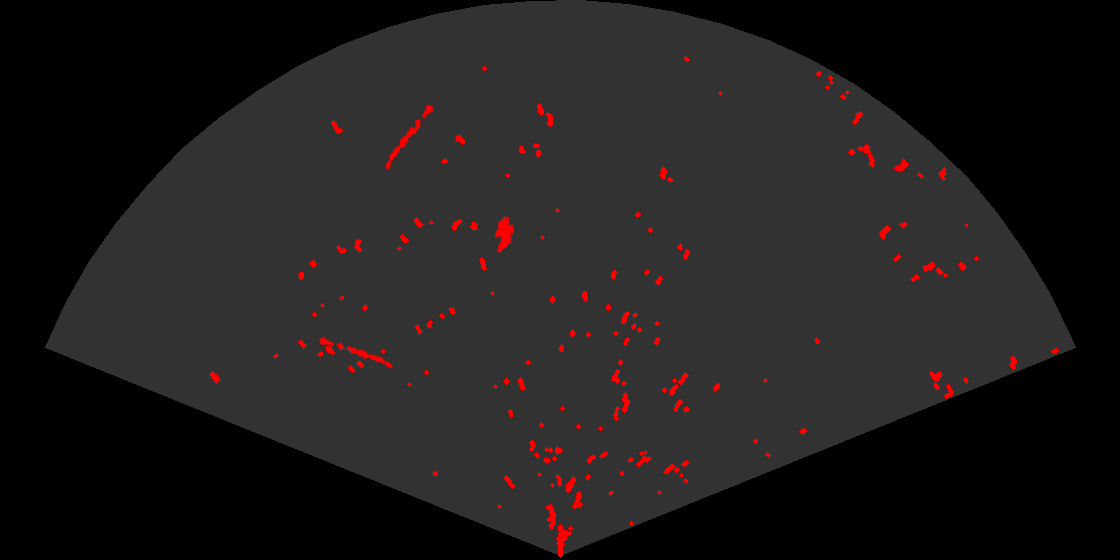AUV: (493, 214, 516, 255)
chain: (384, 94, 439, 171), (316, 335, 395, 370)
